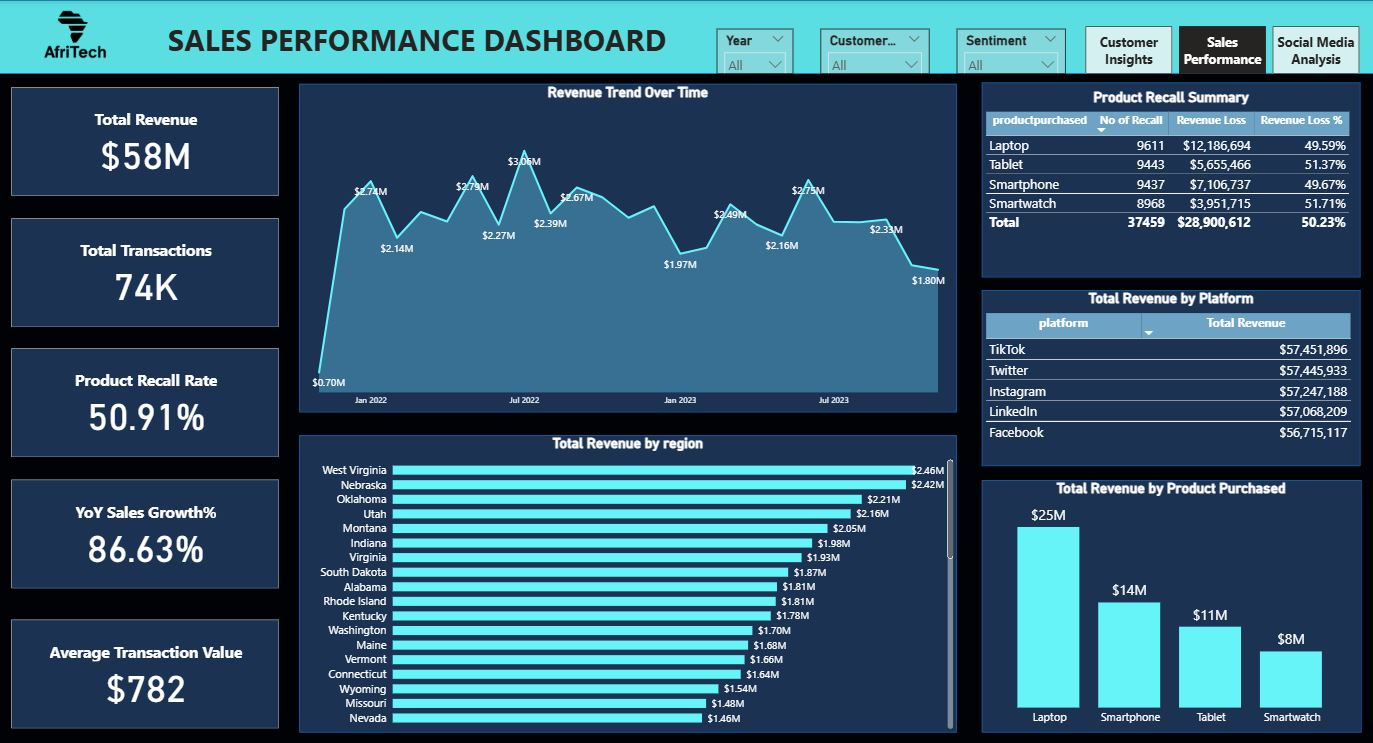

This screenshot's page, from the dashboard's own definition file:
{"tool":"powerbi","page":{"name":"Sales Performance","canvas":[2000,1080],"ordinal":1},"visuals":[{"type":"shape","box":[0,0,2000.4,107.2],"z":0},{"type":"shape","box":[1429.9,697.7,552.3,367],"z":1000},{"type":"shape","box":[437.9,632.3,955.7,432.4],"z":2000},{"type":"shape","box":[1429.9,421.5,550.5,256.2],"z":3000},{"type":"shape","box":[1429.9,119.9,550.5,283.4],"z":4000},{"type":"shape","box":[437.9,121.7,955.7,477.8],"z":5000},{"type":"image","box":[0,0,221.7,105.4],"z":6000},{"type":"stackedAreaChart","title":"Revenue Trend Over Time","fields":{"Category":["public transactiondata.transactiondate.Variation.Date Hierarchy.Year","public transactiondata.transactiondate.Variation.Date Hierarchy.Month"],"Y":["New Measures.Total Revenue"]},"box":[437.9,121.7,955.7,477.8],"z":7000},{"type":"clusteredBarChart","fields":{"Category":["public customerdata.region"],"Y":["New Measures.Total Revenue"]},"box":[437.9,632.3,955.7,432.4],"z":8000},{"type":"tableEx","title":"Product Recall Summary","fields":{"Values":["public transactiondata.productpurchased","New Measures.Recall Count","New Measures.Revenue Loss","New Measures.Revenue Loss %"]},"box":[1429.9,119.9,550.5,283.4],"z":9000},{"type":"tableEx","title":"Total Revenue by Platform","fields":{"Values":["public socialmedia.platform","New Measures.Total Revenue"]},"box":[1429.9,421.5,550.5,256.2],"z":10000},{"type":"clusteredColumnChart","title":"Total Revenue by Product Purchased","fields":{"Y":["New Measures.Total Revenue"],"Category":["public transactiondata.productpurchased"]},"box":[1429.9,697.7,550.5,367],"z":11000},{"type":"textbox","box":[241.6,23.6,757.6,81.8],"z":12000},{"type":"cardVisual","fields":{"Data":["New Measures.Total Revenue"]},"box":[14.5,121.7,399.7,169],"z":13000},{"type":"cardVisual","fields":{"Data":["New Measures.Average Transaction Value"]},"box":[14.5,895.7,399.7,169],"z":14000},{"type":"cardVisual","fields":{"Data":["New Measures.Total Transactions"]},"box":[14.5,311.6,399.7,169],"z":15000},{"type":"cardVisual","fields":{"Data":["New Measures.Product Recall Rate"]},"box":[14.5,501.5,399.7,169],"z":16000},{"type":"cardVisual","fields":{"Data":["New Measures.YoY Sales Growth%"]},"box":[14.5,691.3,399.7,169],"z":17000},{"type":"pageNavigator","box":[1580.7,38.2,399.7,69],"z":18000},{"type":"slicer","fields":{"Values":["public transactiondata.transactiondate.Variation.Date Hierarchy.Year"]},"box":[1044.7,41.8,110.8,65.4],"z":19000},{"type":"slicer","fields":{"Values":["public customerdata.customertype"]},"box":[1195.5,41.8,158.1,65.4],"z":20000},{"type":"slicer","fields":{"Values":["public socialmedia.sentiment"]},"box":[1393.5,41.8,158.1,65.4],"z":21000}]}

Visuals, with their boxes in screenshot pixels (x1, y1, x2, y2), scaled from the page's 2000x1080 canvas onto the 1373x743 screenshot:
shape: <box>0,0,1372,74</box>
shape: <box>982,480,1361,732</box>
shape: <box>301,435,957,732</box>
shape: <box>982,290,1360,466</box>
shape: <box>982,82,1360,277</box>
shape: <box>301,84,957,412</box>
image: <box>0,0,152,73</box>
"Revenue Trend Over Time" stackedAreaChart: <box>301,84,957,412</box>
clusteredBarChart - public customerdata.region x New Measures.Total Revenue: <box>301,435,957,732</box>
"Product Recall Summary" tableEx: <box>982,82,1360,277</box>
"Total Revenue by Platform" tableEx: <box>982,290,1360,466</box>
"Total Revenue by Product Purchased" clusteredColumnChart: <box>982,480,1360,732</box>
textbox: <box>166,16,686,73</box>
cardVisual - New Measures.Total Revenue: <box>10,84,284,200</box>
cardVisual - New Measures.Average Transaction Value: <box>10,616,284,732</box>
cardVisual - New Measures.Total Transactions: <box>10,214,284,331</box>
cardVisual - New Measures.Product Recall Rate: <box>10,345,284,461</box>
cardVisual - New Measures.YoY Sales Growth%: <box>10,476,284,592</box>
pageNavigator: <box>1085,26,1360,74</box>
slicer - public transactiondata.transactiondate.Variation.Date Hierarchy.Year: <box>717,29,793,74</box>
slicer - public customerdata.customertype: <box>821,29,929,74</box>
slicer - public socialmedia.sentiment: <box>957,29,1065,74</box>
